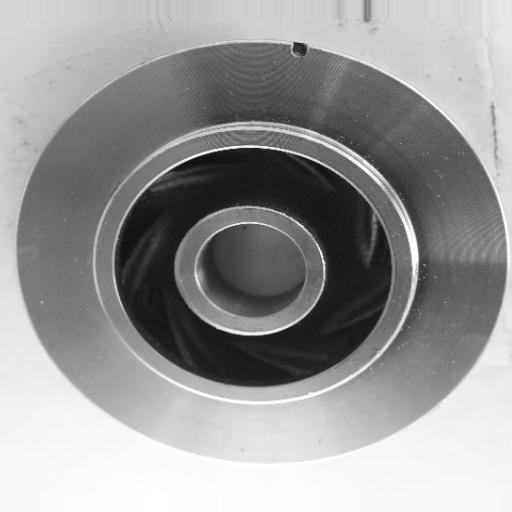pit: (278, 30, 315, 67)
unpolished_casting: (12, 36, 507, 467)
